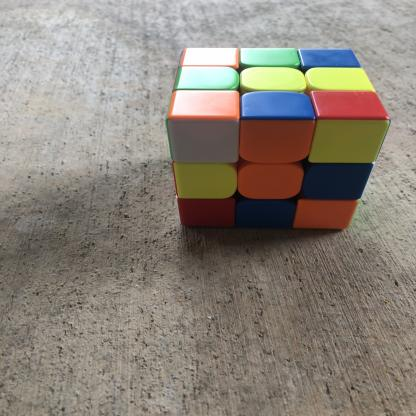UnsolvedCube: (134, 41, 398, 241)
